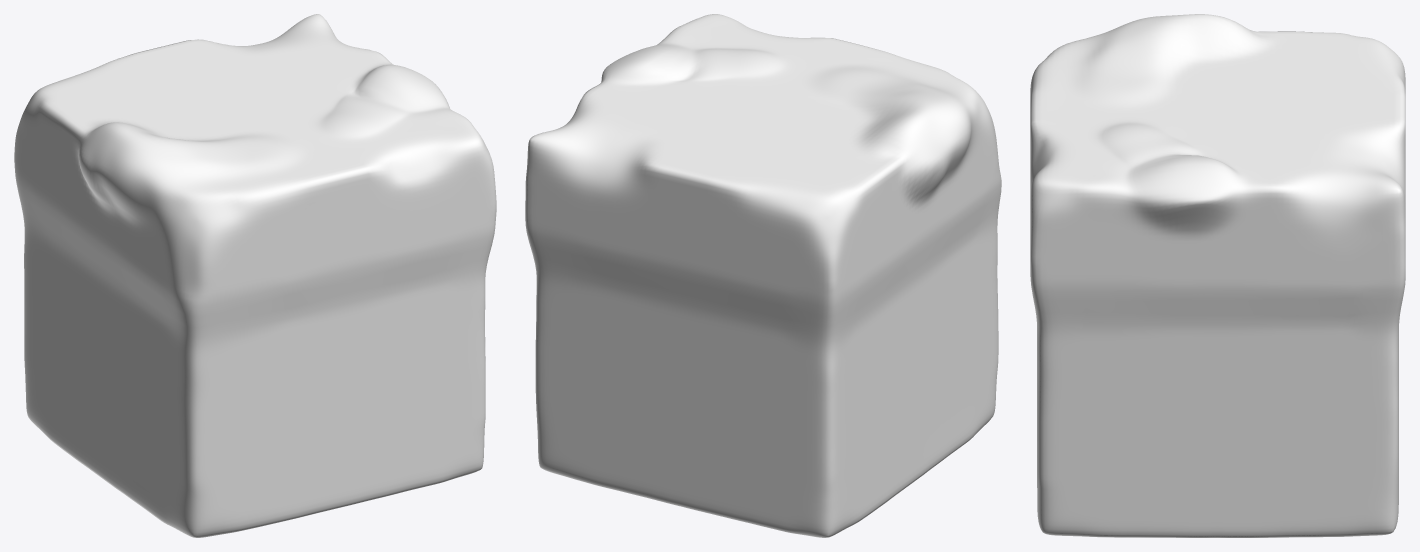
File: cube_NewUVs_1.fbx
The picture shows the model from 3 angles, left to right: view 1: azimuth 30°, elevation 25°; view 2: azimuth 150°, elevation 25°; view 3: azimuth 270°, elevation 25°; orthographic projection. The views are drawn at different scales.
Visible parts, largest first — view 1: cube_NewUVs_1; view 2: cube_NewUVs_1; view 3: cube_NewUVs_1.
Boxes of the visible parts, bbox=[...] form: cube_NewUVs_1: bbox=[14, 14, 496, 537]; cube_NewUVs_1: bbox=[525, 14, 1001, 537]; cube_NewUVs_1: bbox=[1030, 14, 1405, 537].
Size of the model in its own units: 2.19 by 2.22 by 2.
1 material, 1 textured.
